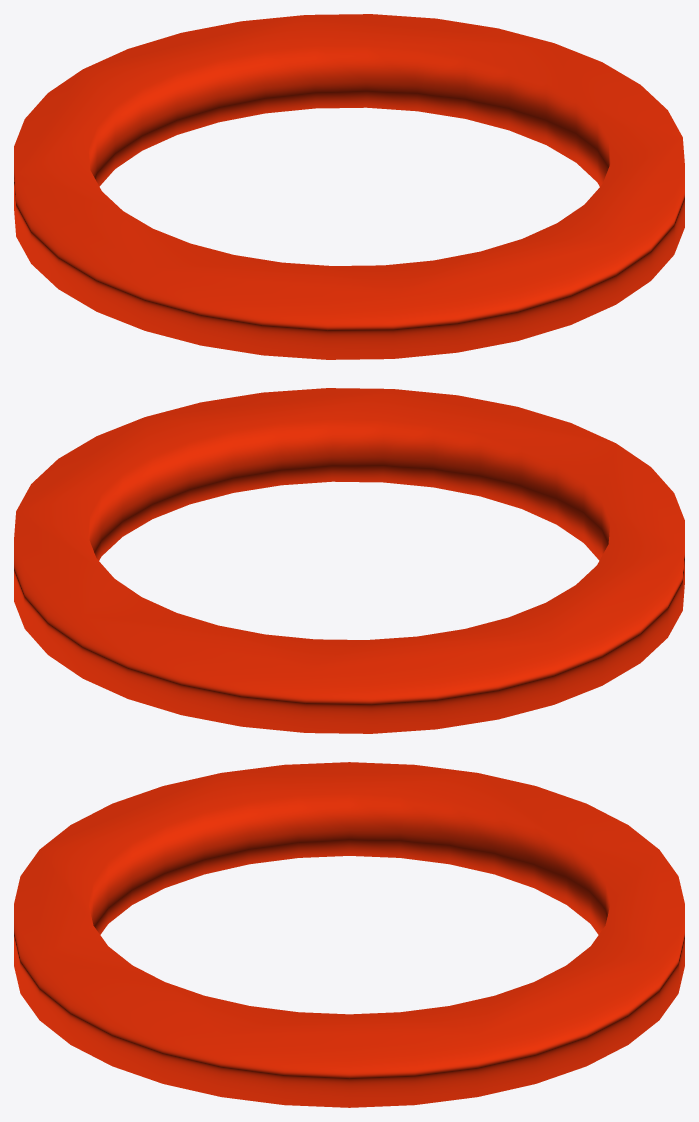
Rendered from maru2.glb.
3 views of the same model, one above another, from view 1: azimuth 30°, elevation 25°; view 2: azimuth 150°, elevation 25°; view 3: azimuth 270°, elevation 25° (orthographic).
Parts seen in each view (by area): view 1: 円柱; view 2: 円柱; view 3: 円柱.
Part boxes in pixels (box(x1,y1,x2,y2)): 円柱: box(14, 14, 684, 359); 円柱: box(14, 388, 684, 733); 円柱: box(14, 762, 684, 1107).
Bounding box in the file's own units: 2 × 0.2045 × 2.
